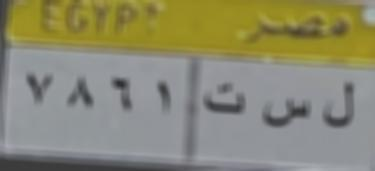1: (147, 78, 180, 123)
6: (106, 71, 142, 123)
7: (27, 65, 57, 111)
8: (64, 71, 98, 117)
laam: (320, 79, 358, 137)
seen: (259, 90, 315, 132)
taa: (198, 74, 251, 117)
